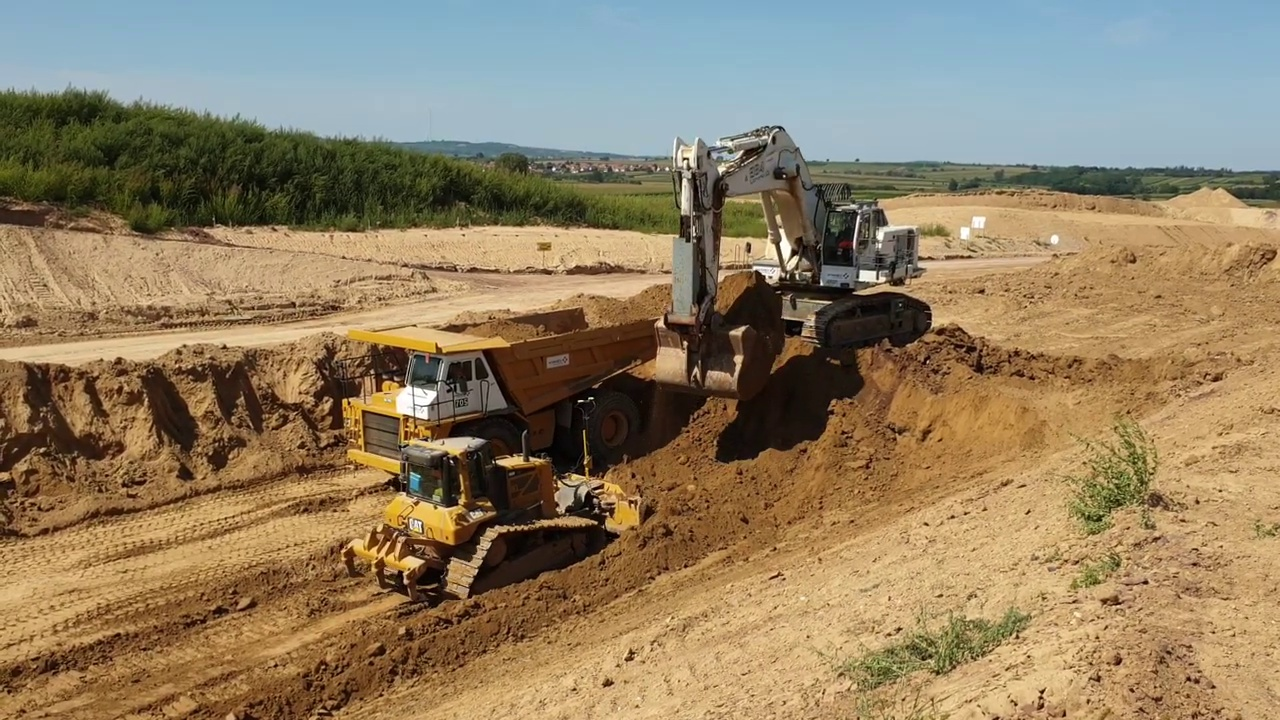bulldozer: (339, 393, 647, 609)
excavator: (654, 119, 935, 406)
truck: (332, 303, 666, 492)
